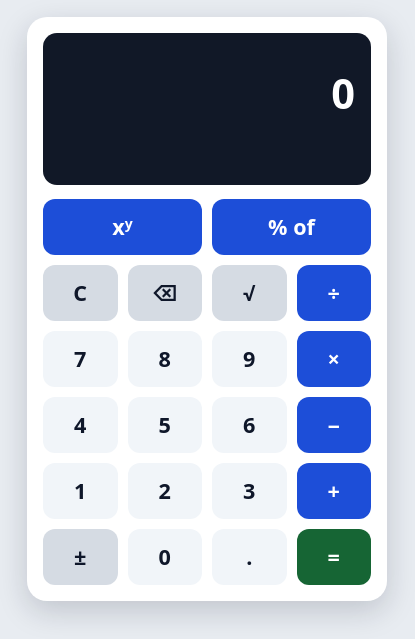
Scenario: App › while a request is pending › shows Calculating…, disables the keys but not C, and does not send duplicates
The width and height of the screenshot is (415, 639).
Click the button "1" at (80, 491), box left=43, top=463, right=118, bottom=519
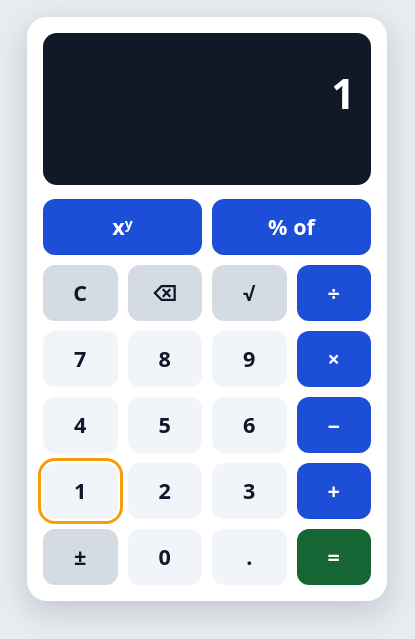
Click the button named "add" at (334, 491), box left=296, top=463, right=371, bottom=519
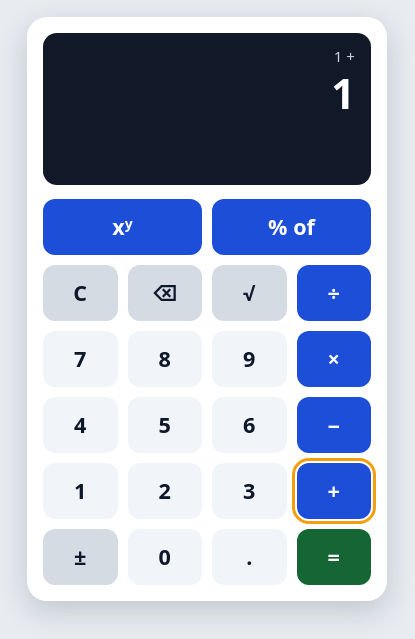
Click the button "2" at (165, 491), box left=128, top=463, right=202, bottom=519
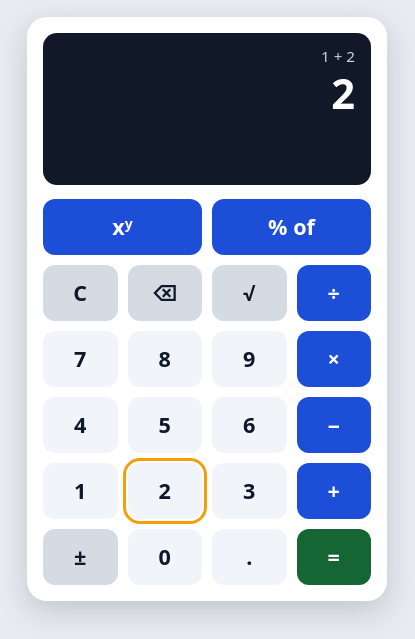
Click the button named "equals" at (334, 557), box left=296, top=529, right=371, bottom=585
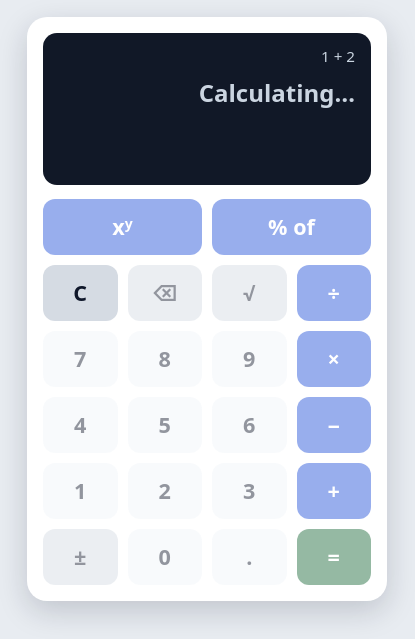
Expected: the text with test id "result" reads "Calculating…", left=199, top=76, right=355, bottom=109
Expected: the button named "equals" is disabled, left=296, top=529, right=371, bottom=585
Expected: the button "5" is disabled, left=128, top=397, right=202, bottom=453
Press Enter
Type keys "="
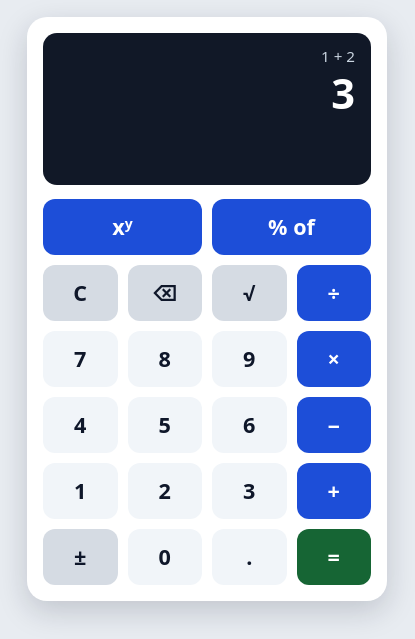
Expected: the button named "equals" is enabled, left=296, top=529, right=371, bottom=585
